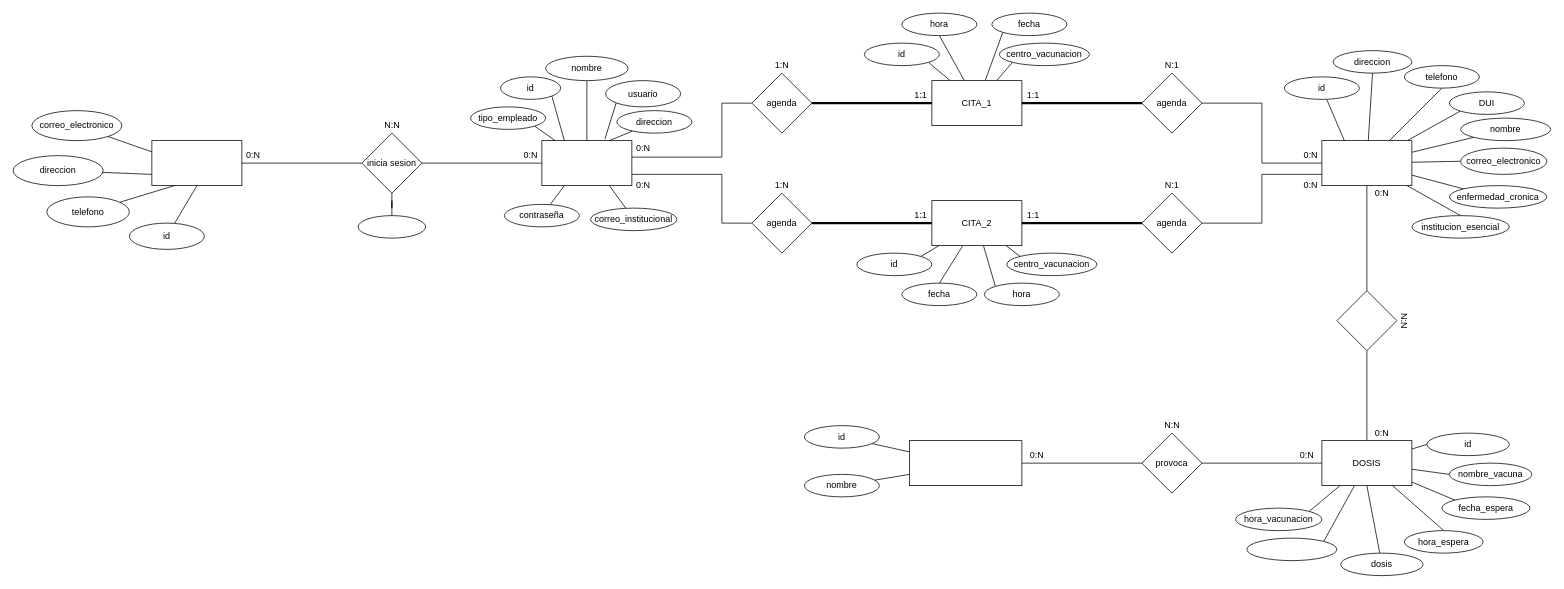
The diagram is 1564 pixels wide and 589 high, and some of its shapes have lost their labels. Each missing label, with the centre of its shape:
"aplica" goes at (1366,320).
"CABINA" goes at (196,163).
"CIUDADANO" goes at (1366,163).
"EFECTO_SECUNDARIO" goes at (965,463).
"fecha_vacunacion" goes at (1291,549).
"fecha_y_hora" goes at (391,226).
"GESTOR" goes at (586,163).
